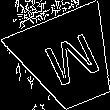M_SE: (35, 28, 102, 93)
